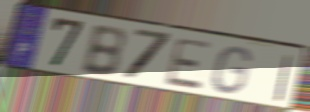7: (124, 27, 174, 85), (50, 16, 86, 72)
B: (78, 24, 127, 79)
E: (162, 36, 215, 92)
G: (210, 45, 253, 96)
I: (273, 53, 294, 104)
